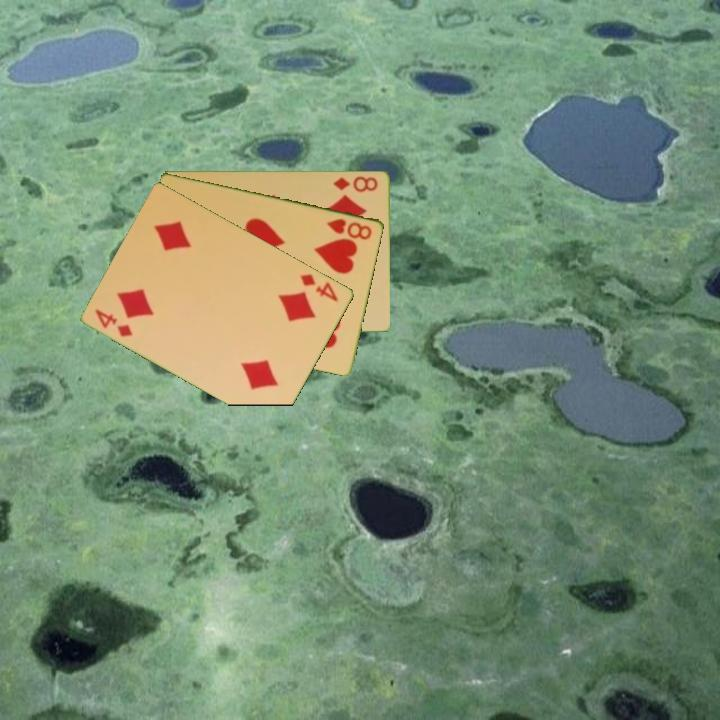4d: (92, 305, 136, 340), (297, 270, 341, 304)
8d: (330, 172, 381, 195)
8h: (324, 215, 375, 242)
